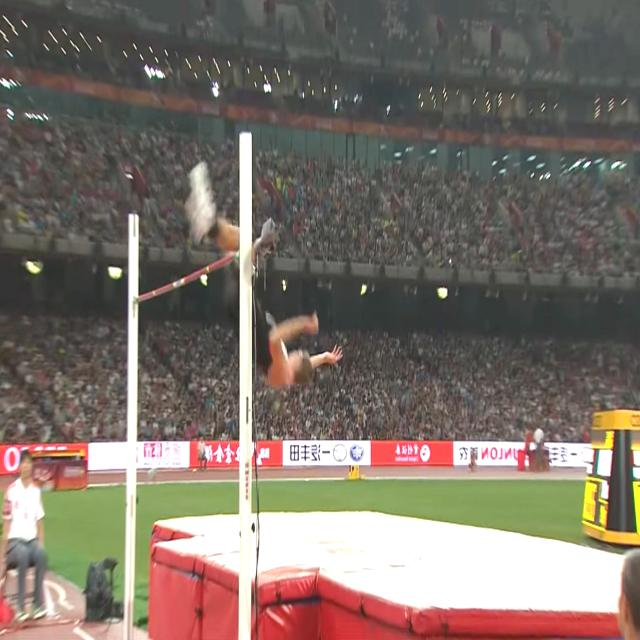land: (187, 163, 344, 387)
